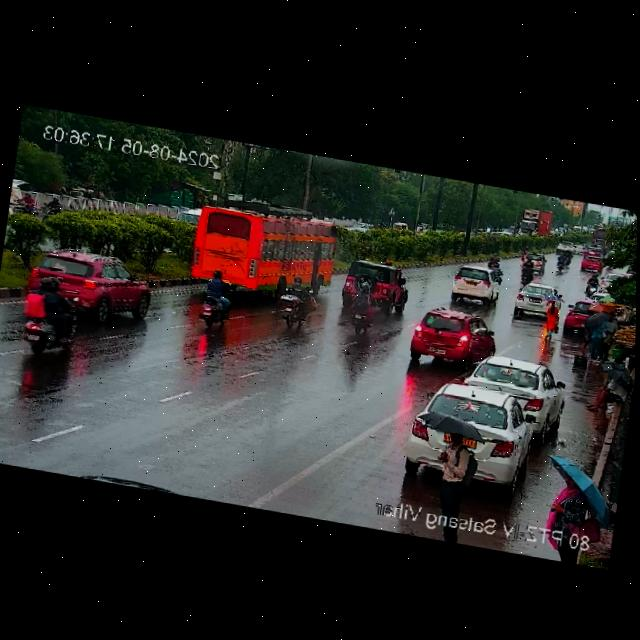bus: (173, 195, 335, 308)
car: (409, 378, 555, 499), (28, 244, 161, 325), (462, 350, 564, 416), (403, 302, 495, 372), (336, 255, 407, 307), (445, 262, 498, 306), (509, 279, 556, 321), (559, 295, 594, 336), (523, 249, 551, 271), (578, 252, 602, 274), (346, 218, 372, 238), (556, 238, 577, 254), (393, 219, 408, 234)
motorcycle: (22, 274, 85, 358), (191, 271, 239, 329), (276, 279, 315, 329), (43, 193, 67, 225), (517, 256, 536, 284), (17, 191, 37, 217), (581, 273, 599, 295), (485, 250, 504, 270), (555, 252, 569, 271)
person: (427, 425, 480, 513), (549, 472, 599, 540), (578, 306, 617, 364), (586, 367, 629, 415), (541, 297, 563, 340)
truck: (515, 204, 552, 244)
